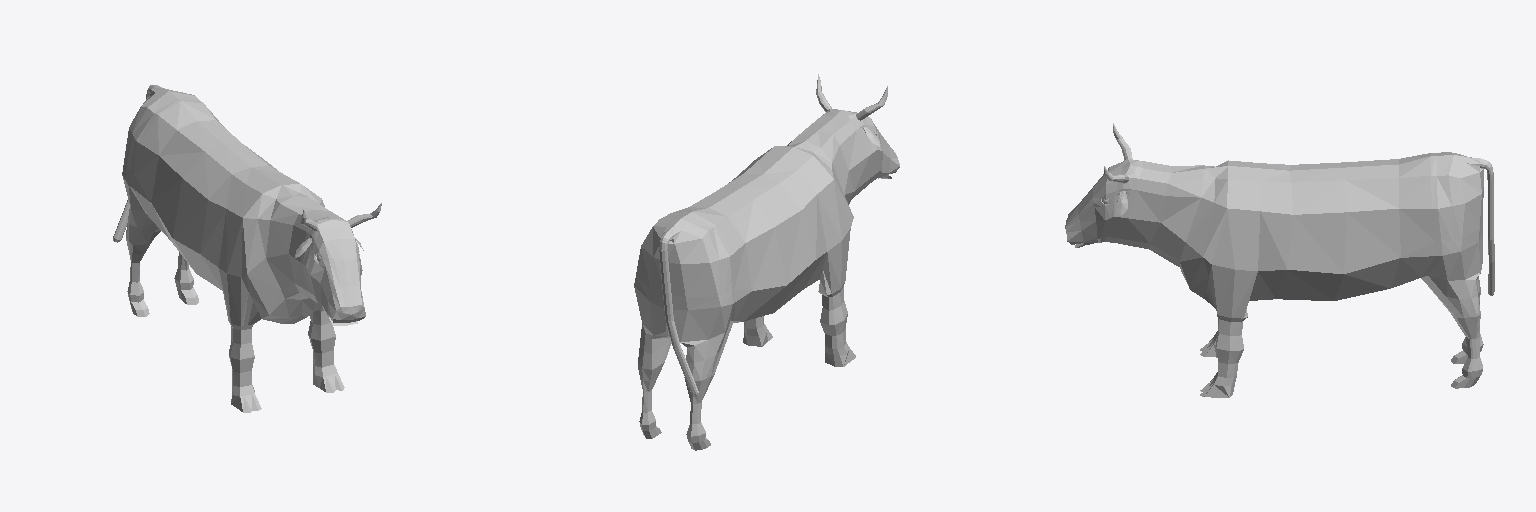
The model's file is 002_BullNew03.obj.
3 views of the same model, side by side, from view 1: azimuth 30°, elevation 25°; view 2: azimuth 150°, elevation 25°; view 3: azimuth 270°, elevation 25° (orthographic).
Visible parts, largest first — view 1: Boi.001; view 2: Boi.001; view 3: Boi.001.
Part boxes in pixels (x1,y1,x2,y2): Boi.001: (113, 85, 381, 412); Boi.001: (634, 74, 899, 450); Boi.001: (1065, 123, 1494, 397).
Bounding box in the file's own units: 11.97 × 25.91 × 42.9.